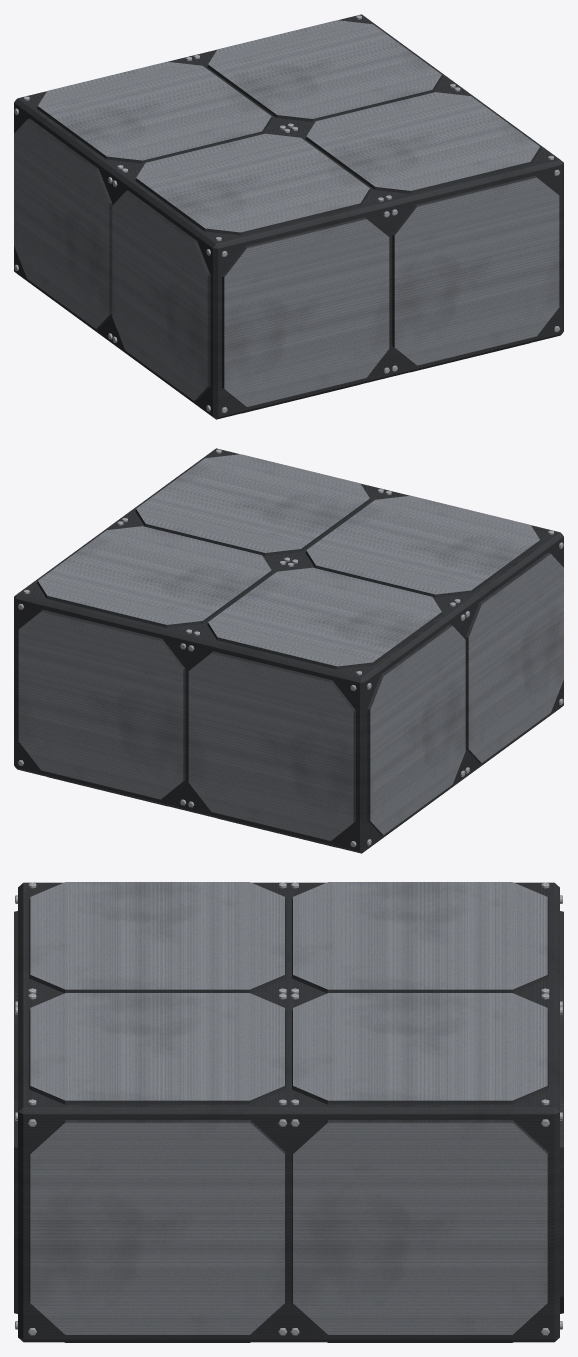
Rendered from R4B_Slab2x2.glb.
3 renders of one model, top to bottom at view 1: azimuth 30°, elevation 25°; view 2: azimuth 150°, elevation 25°; view 3: azimuth 270°, elevation 25°, orthographic. The views are drawn at different scales.
Parts seen in each view (by area): view 1: R4B_Slab2x2; view 2: R4B_Slab2x2; view 3: R4B_Slab2x2.
Part boxes in pixels (x1,y1,x2,y2): R4B_Slab2x2: [14, 14, 563, 419]; R4B_Slab2x2: [14, 448, 563, 853]; R4B_Slab2x2: [14, 882, 563, 1342].
Size of the model in its own units: 1.07 by 0.52 by 1.07.
3 materials, 3 textured.
